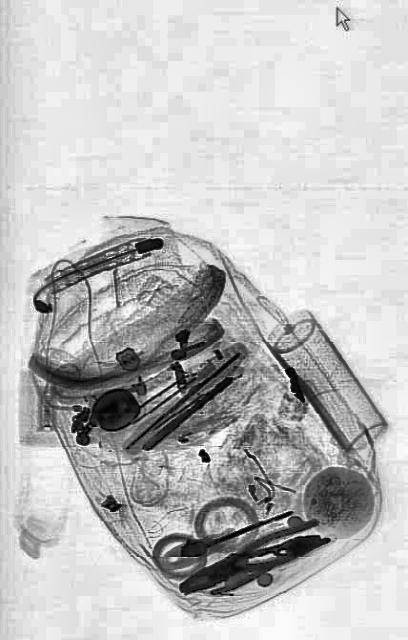Pliers: (176, 512, 323, 606), (204, 524, 320, 594)
